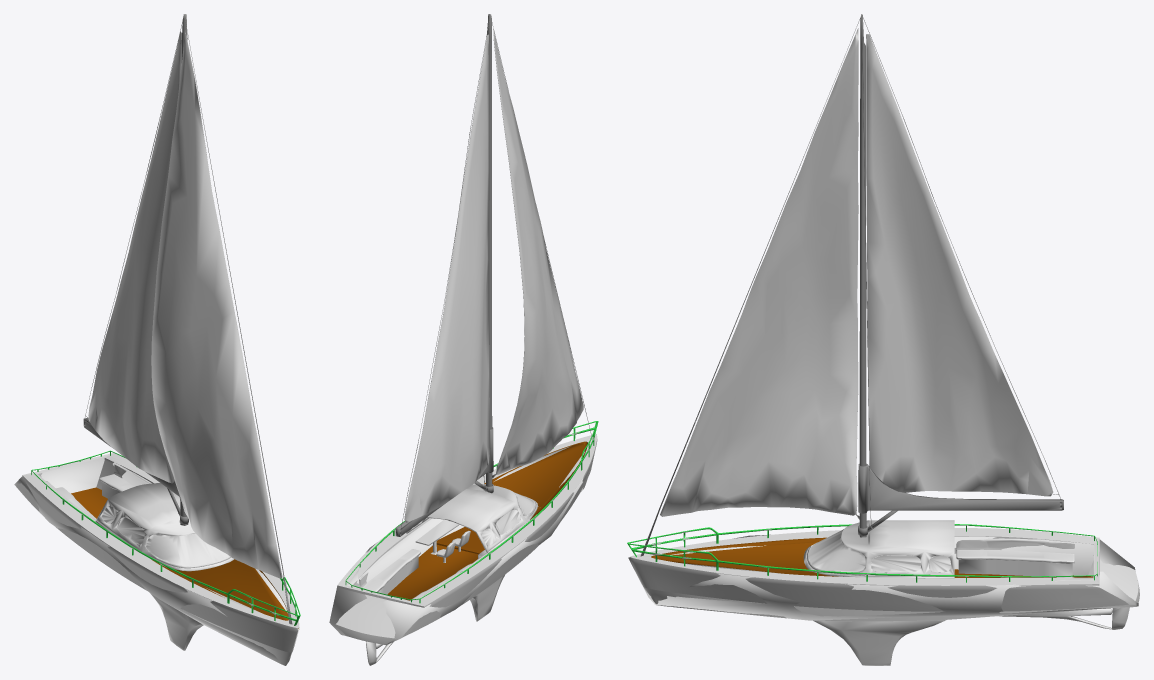
File: Sailboat.fbx
The picture shows the model from 3 angles, left to right: view 1: azimuth 30°, elevation 25°; view 2: azimuth 150°, elevation 25°; view 3: azimuth 270°, elevation 25°; orthographic projection. The views are drawn at different scales.
Parts seen in each view (by area): view 1: Sail Front, Sail Rear, Hull, HullLowPoly, Cabin, Windows, Guardrail, Keel, Furniture, RopesFront; view 2: Sail Rear, Sail Front, Hull, HullLowPoly, Cabin, Furniture, Mast, Guardrail, Windows, Keel; view 3: Sail Front, Sail Rear, Hull, HullLowPoly, Cabin, Furniture, Mast, Keel, Windows, Guardrail, RopesFront, Keel2.
Part boxes in pixels (x1,y1,x2,y2): Sail Front: (151, 30, 282, 578); Sail Rear: (83, 22, 188, 524); Hull: (16, 453, 299, 665); HullLowPoly: (14, 456, 299, 665); Cabin: (95, 483, 233, 571); Windows: (102, 506, 228, 566); Guardrail: (31, 450, 300, 625); Keel: (149, 592, 203, 650); Furniture: (46, 464, 151, 519); RopesFront: (182, 18, 292, 624); Sail Rear: (395, 18, 493, 536); Sail Front: (493, 27, 583, 474); Hull: (335, 434, 597, 645); HullLowPoly: (329, 434, 596, 644); Cabin: (406, 484, 537, 553); Furniture: (359, 520, 486, 601); Mast: (486, 14, 492, 486); Guardrail: (345, 421, 598, 603); Windows: (413, 492, 534, 545); Keel: (470, 575, 504, 621); Sail Front: (660, 28, 858, 516); Sail Rear: (858, 17, 1063, 535); Hull: (630, 528, 1139, 621); HullLowPoly: (628, 534, 1138, 620); Cabin: (803, 520, 954, 578); Furniture: (956, 538, 1074, 577); Mast: (859, 14, 866, 537); Keel: (813, 619, 946, 665); Windows: (808, 530, 950, 572); Guardrail: (627, 524, 1097, 582); RopesFront: (640, 18, 860, 556); Keel2: (999, 608, 1112, 629).
Bounding box in the file's own units: 4.36 × 22.4 × 15.97.
